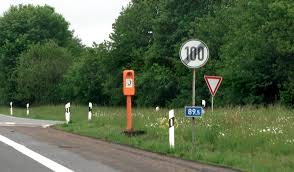aufgehoben: (178, 40, 209, 68)
